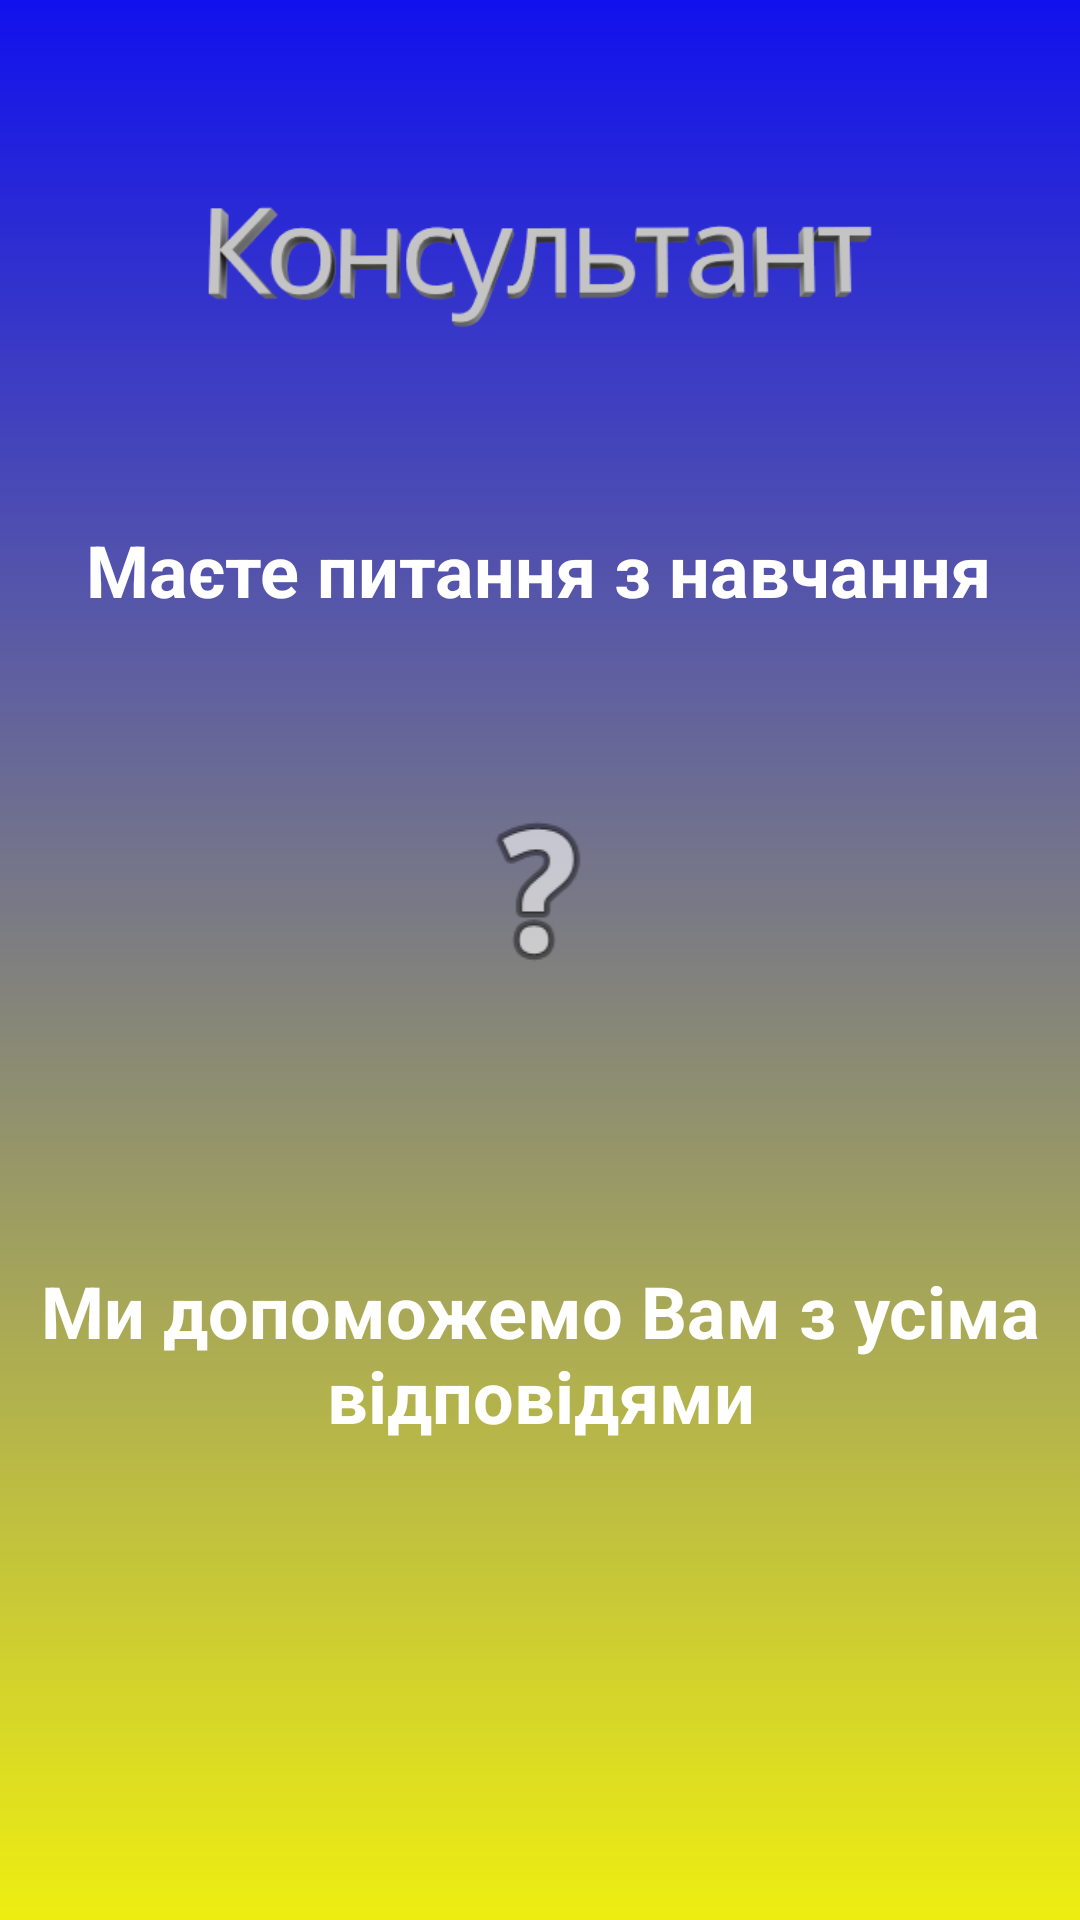

Named icons in this screenshot (1080w x 1920h) and their centers, (x,y):
help: (538,890)
